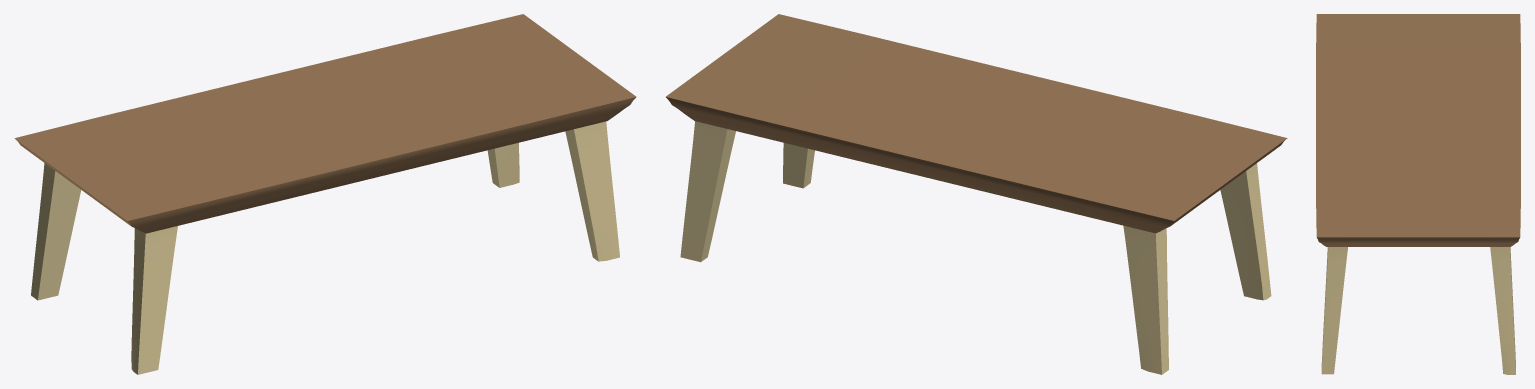
The model's file is table2.fbx.
The picture shows the model from 3 angles, left to right: view 1: azimuth 30°, elevation 25°; view 2: azimuth 150°, elevation 25°; view 3: azimuth 270°, elevation 25°; orthographic projection. The views are drawn at different scales.
Visible parts, largest first — view 1: pCube10; view 2: pCube10; view 3: pCube10.
Boxes of the visible parts, box(x1,y1,x2,y2) form: pCube10: box(14, 14, 636, 374); pCube10: box(666, 14, 1287, 374); pCube10: box(1316, 14, 1520, 374).
Size of the model in its own units: 512 by 153 by 199.
